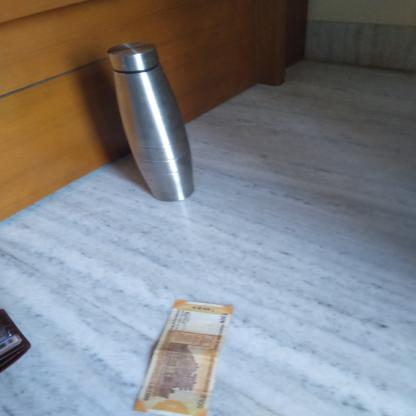New200Back: (147, 302, 221, 416)
